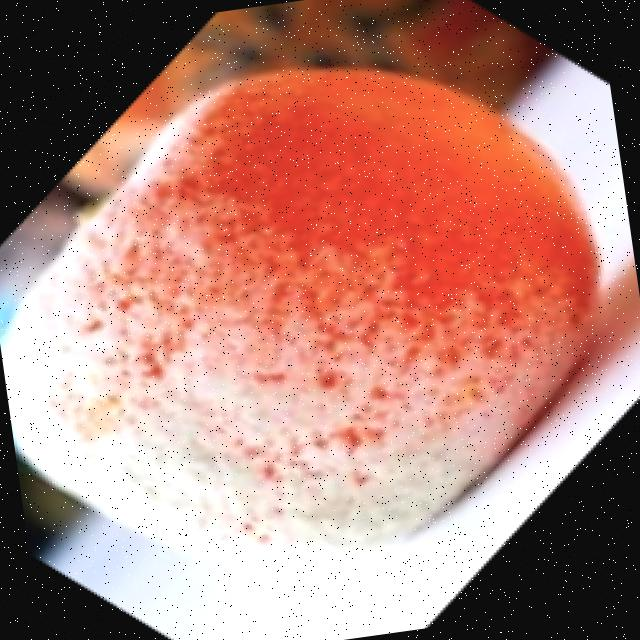Rotten: (0, 29, 635, 598)
